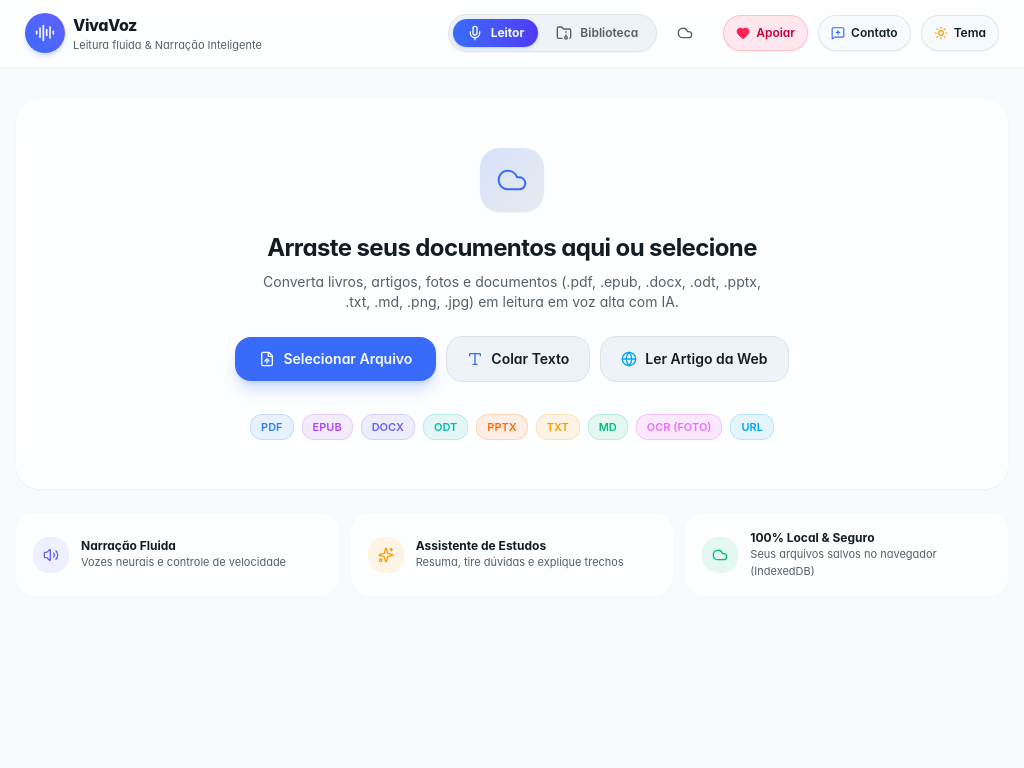
Test: Upload e Processamento Multi-Documento (PDF, EPUB, DOCX, ODT, PPTX, TXT, Web URL) › deve abrir o modal de Colar Texto (Quick Paste) e criar uma nova leitura
The image size is (1024, 768).
Expected: the header is shown, 0,0 -> 1023,67
Expected: the button "Selecionar Arquivo" is shown, 235,336 -> 436,380
Click the button with test id "quick-paste-btn" at (518, 359), box 446,336 -> 590,382
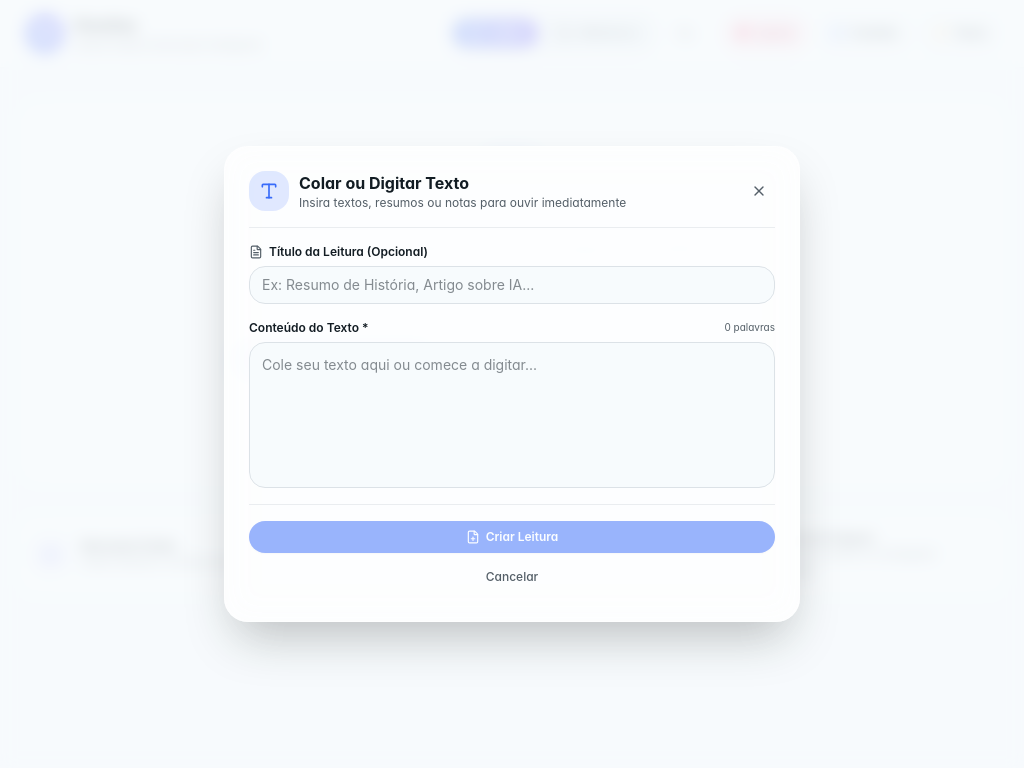
Expected: the field with test id "quick-paste-title-input" is shown
Type "Nota de Estudos E2E" into the field with test id "quick-paste-title-input" at (512, 285), box 249,266 -> 775,304
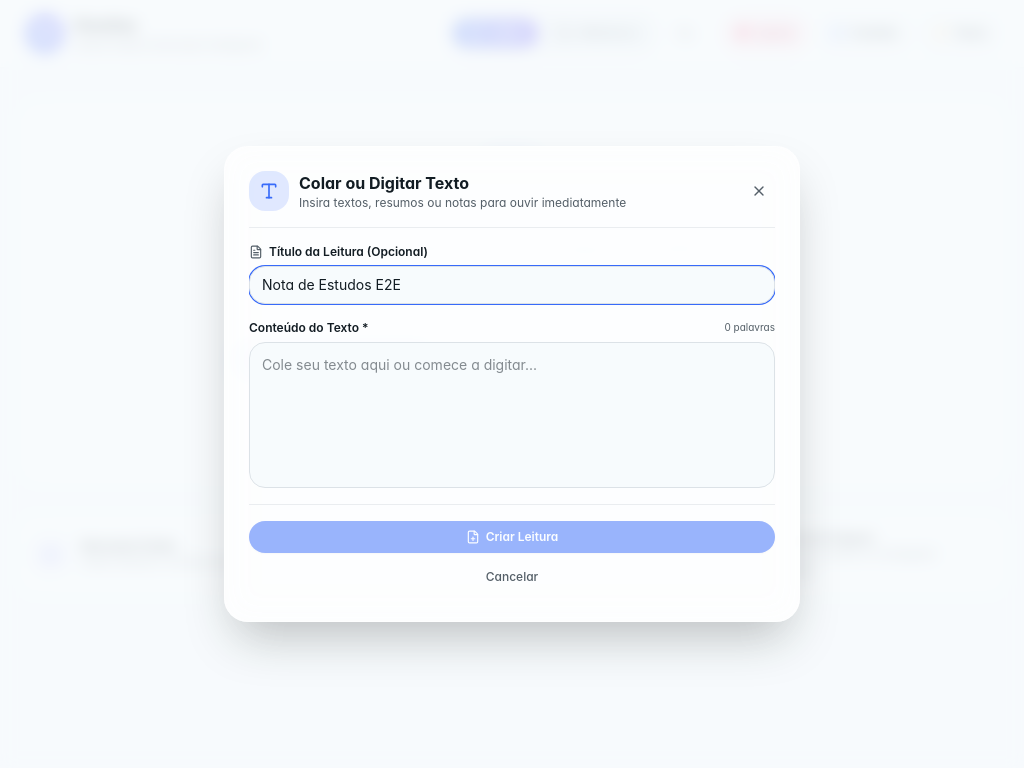
Type "Esta é a primeira sentença para validação E2E. E aqui está a segunda frase com detalhes." into the text box with test id "quick-paste-content-textarea" at (512, 415), box 249,342 -> 775,488
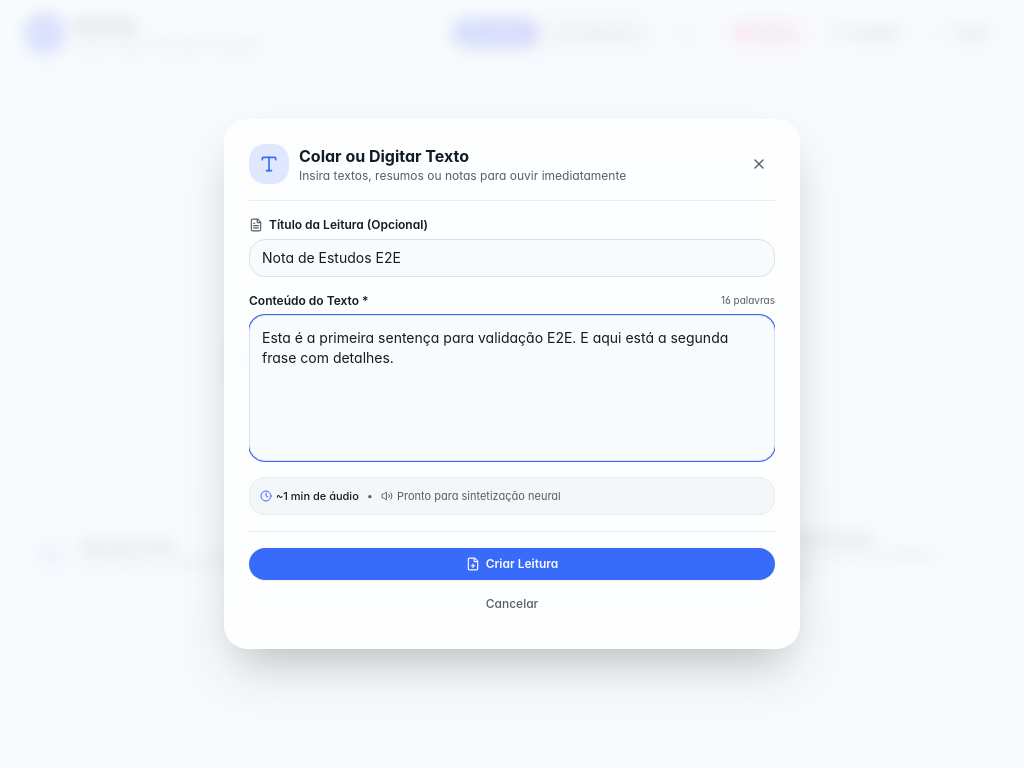
Expected: the text "~1 min de áudio" is shown, 260,488 -> 359,504
Click the button with test id "quick-paste-submit-btn" at (512, 564), box 249,548 -> 775,580
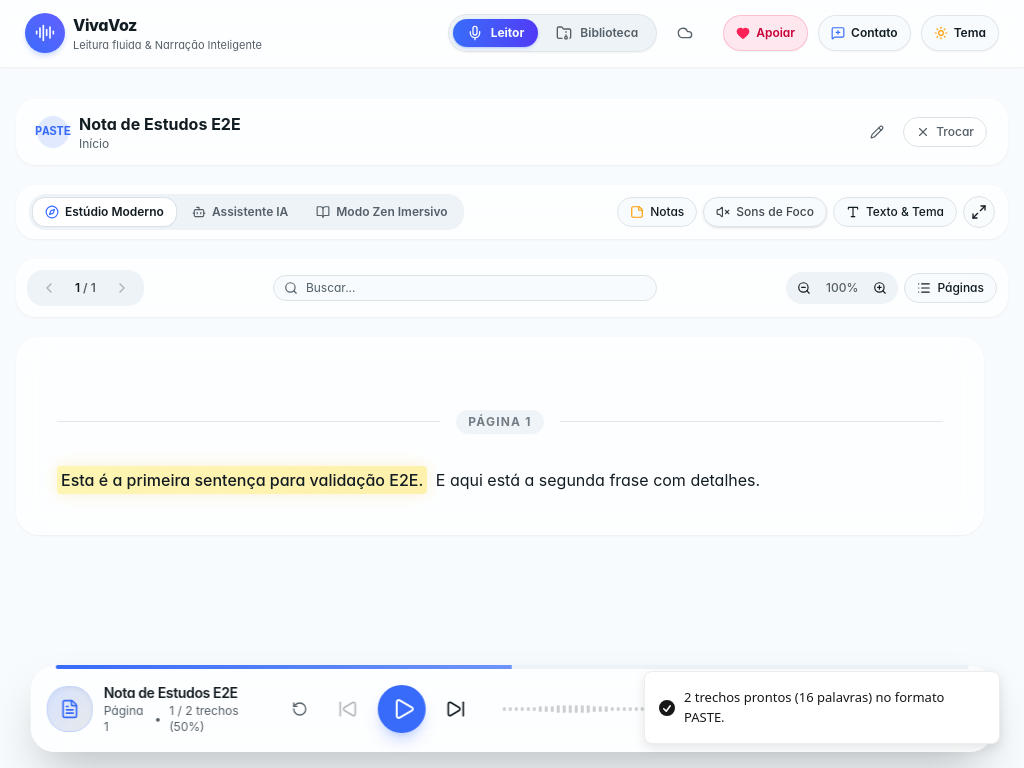
Expected: the heading "Nota de Estudos E2E" is shown, 79,114 -> 241,134
